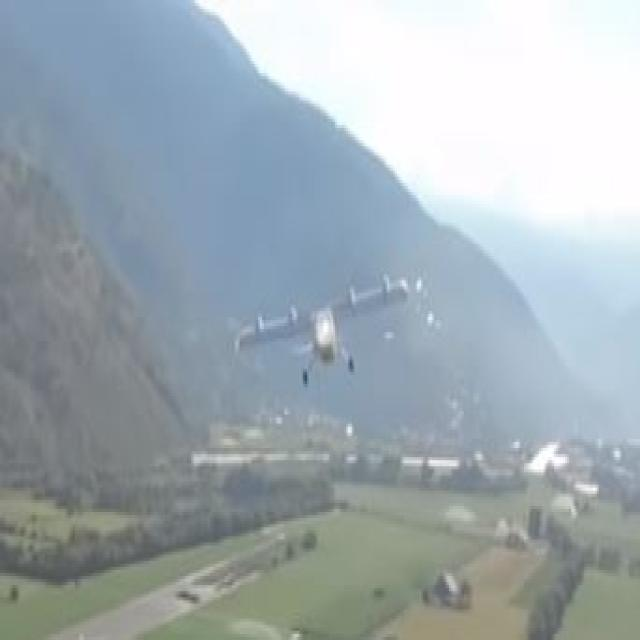iha: (226, 298, 411, 349)
